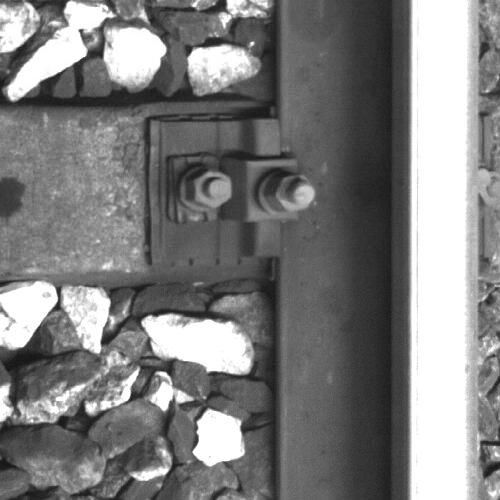kb: (158, 119, 318, 259)
nut: (266, 172, 315, 213), (187, 168, 233, 209)
rail: (410, 1, 478, 500)
tie_concr: (1, 109, 275, 272)
